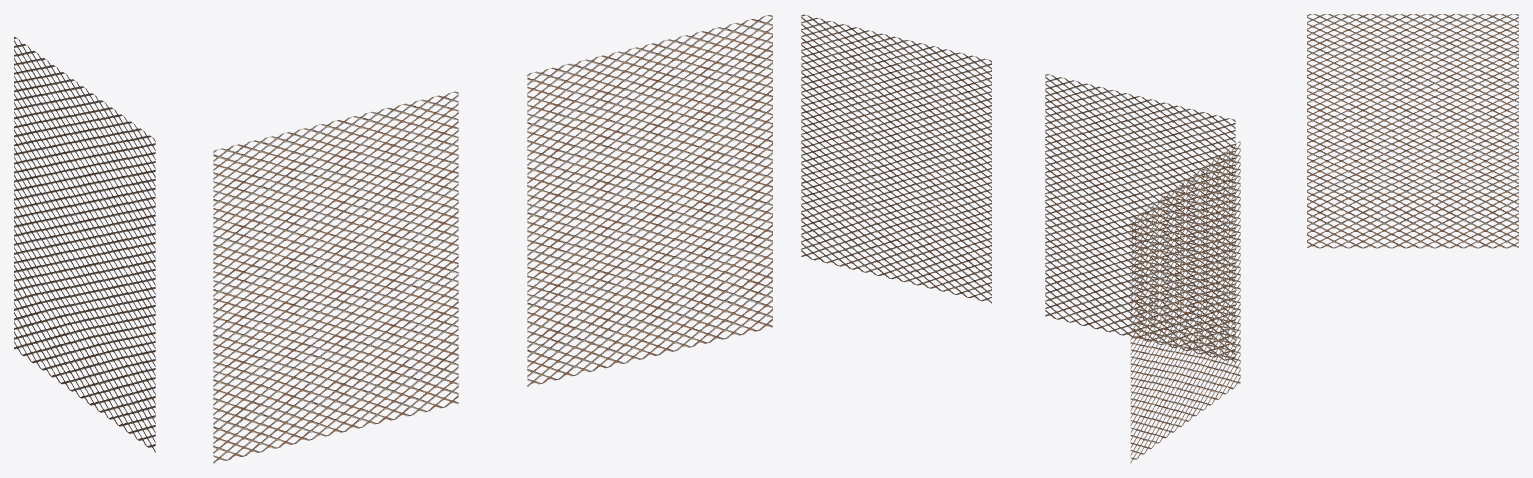
Rendered from STG08_PNW_01.obj.
3 renders of one model, left to right at view 1: azimuth 30°, elevation 25°; view 2: azimuth 150°, elevation 25°; view 3: azimuth 270°, elevation 25°, orthographic. The views are drawn at different scales.
Visible parts, largest first — view 1: Object_2; view 2: Object_2; view 3: Object_2.
Part boxes in pixels (bbox=[...]): Object_2: bbox=[14, 15, 772, 463]; Object_2: bbox=[801, 14, 1240, 463]; Object_2: bbox=[1307, 14, 1518, 248].
Size of the model in its own units: 241 by 122 by 118.
Materials: 1 (1 with a texture image).
